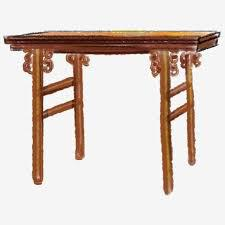desk: (2, 13, 219, 198)
